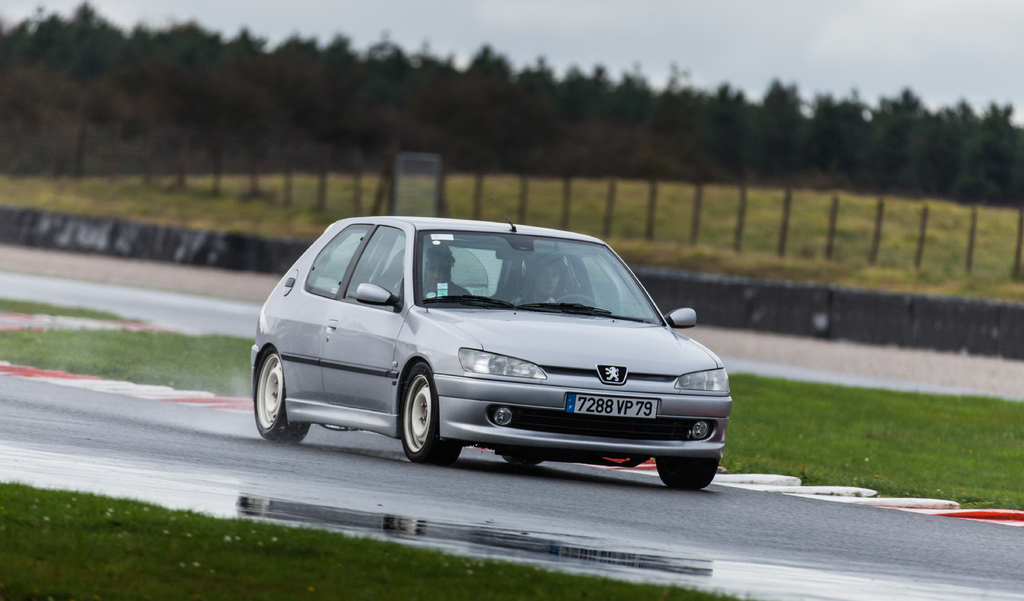Car: (247, 199, 733, 489)
